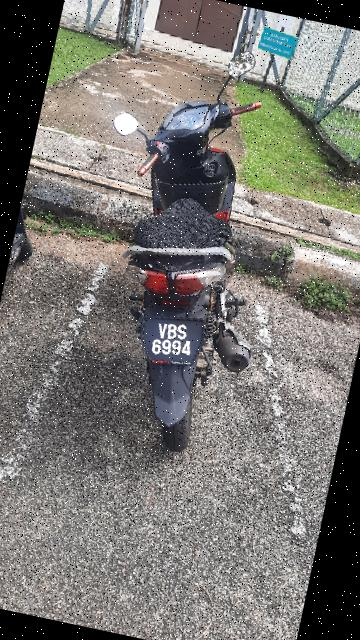License_Plate: (131, 307, 213, 377)
motorcycle: (43, 18, 332, 471)
